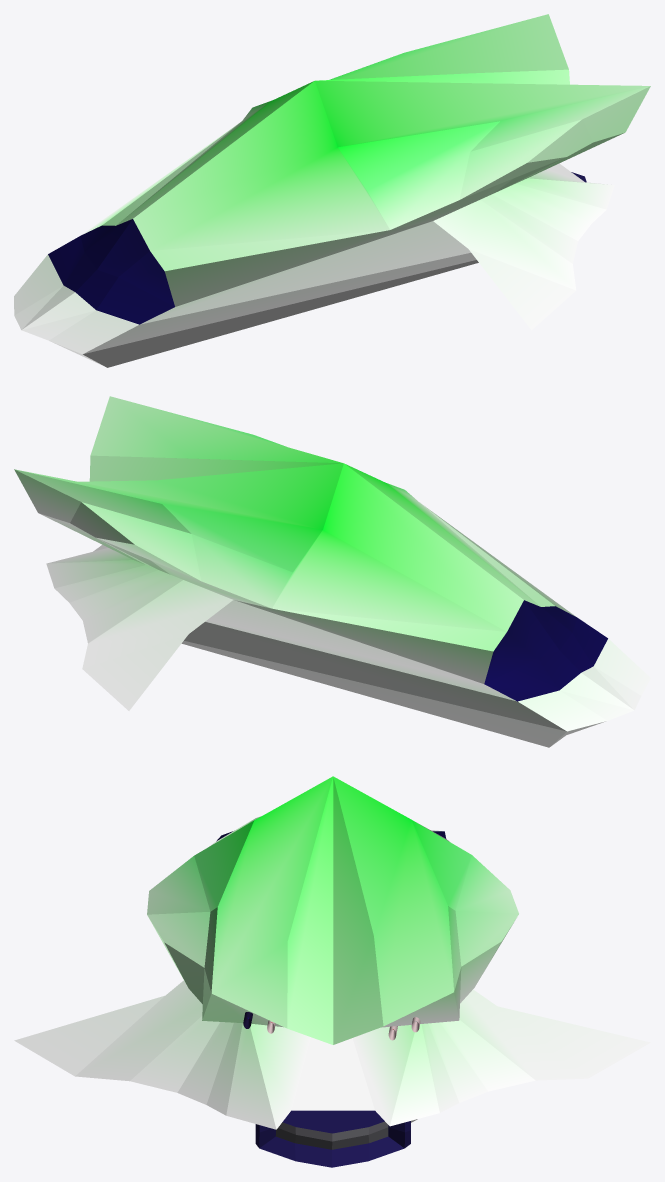
File: Black.fbx
3 renders of one model, top to bottom at view 1: azimuth 30°, elevation 25°; view 2: azimuth 150°, elevation 25°; view 3: azimuth 270°, elevation 25°, orthographic. The views are drawn at different scales.
Visible parts, largest first — view 1: Cube; view 2: Cube; view 3: Cube, Cube.001.
Boxes of the visible parts, box(x1,y1,x2,y2) form: Cube: box(14, 14, 650, 367); Cube: box(14, 396, 650, 747); Cube: box(14, 776, 650, 1129); Cube.001: box(255, 1110, 410, 1167).
Size of the model in its own units: 867 by 300 by 677.
